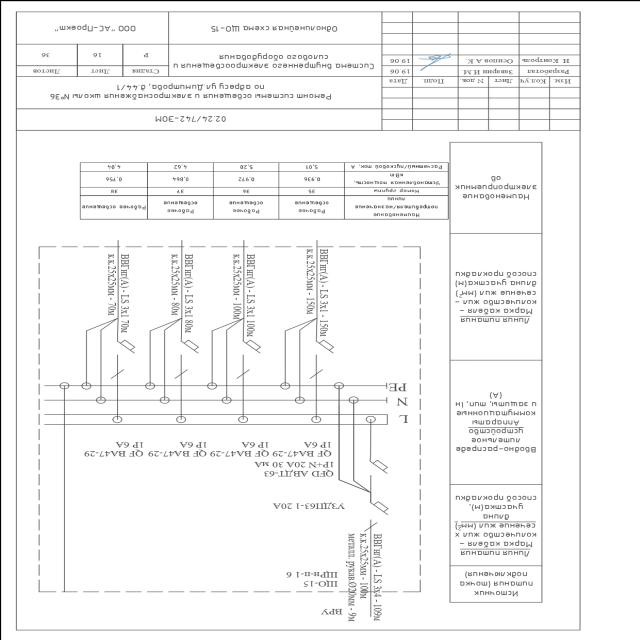-: (248, 458, 334, 481), (267, 494, 349, 512), (280, 568, 340, 588), (78, 440, 144, 458), (141, 440, 207, 458), (268, 440, 334, 458), (205, 439, 270, 457)
QF: (361, 499, 392, 532), (108, 334, 136, 360), (172, 334, 200, 359), (308, 335, 336, 360), (238, 334, 266, 358), (365, 457, 389, 482)
